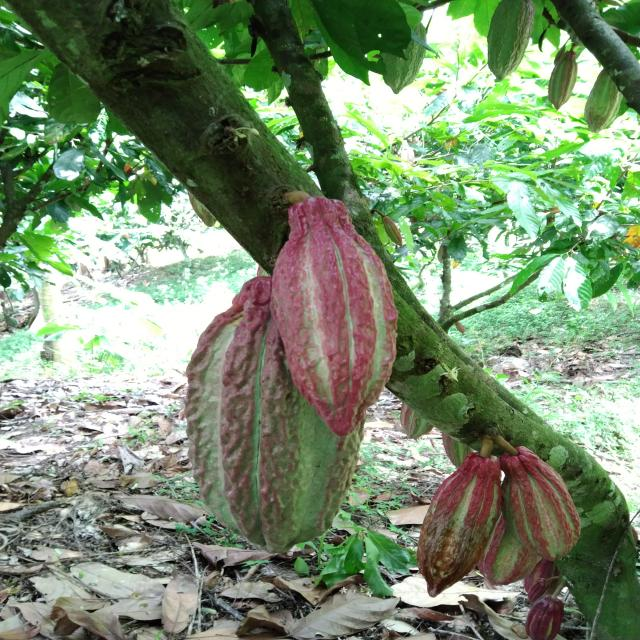Fitoftora: (420, 457, 499, 598)
Sana: (182, 276, 356, 551), (270, 194, 398, 437), (502, 449, 574, 563), (489, 0, 540, 82), (486, 525, 535, 585), (382, 22, 424, 92), (583, 79, 621, 131), (550, 51, 582, 109), (524, 597, 563, 640), (523, 566, 560, 598), (377, 214, 403, 248)
